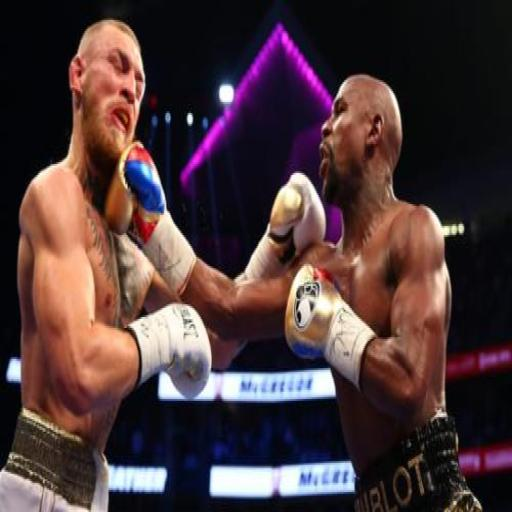boxing: (104, 71, 484, 508), (0, 35, 209, 512)
